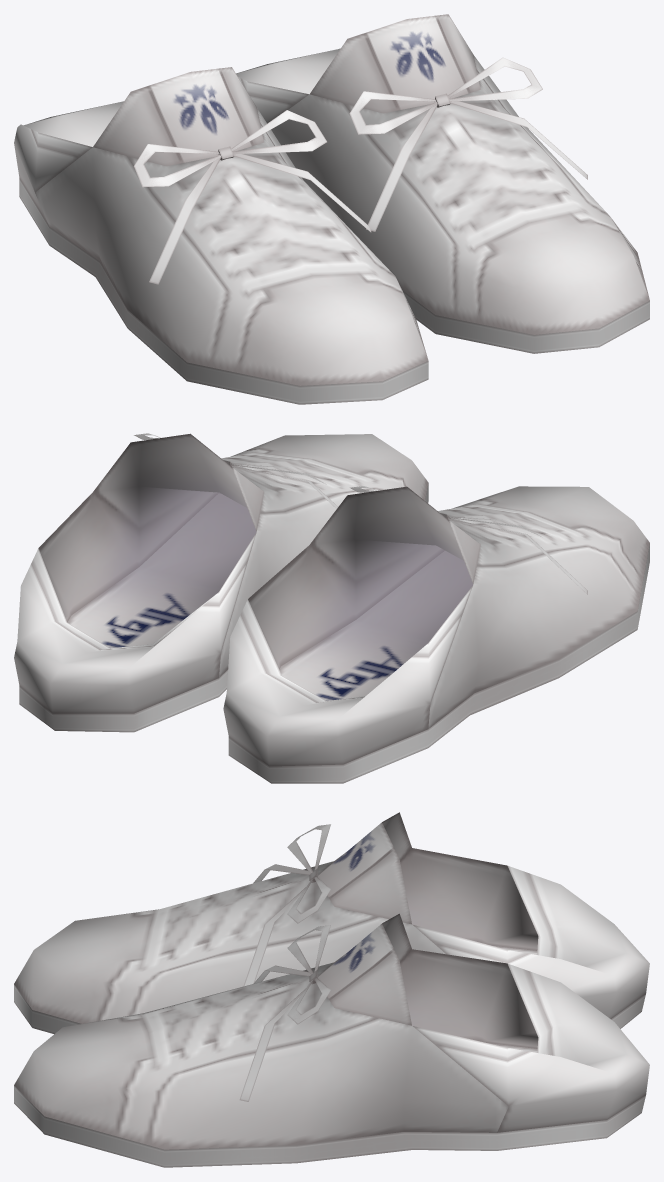
The model's file is set_sneakers_01_b.fbx.
3 renders of one model, top to bottom at view 1: azimuth 30°, elevation 25°; view 2: azimuth 150°, elevation 25°; view 3: azimuth 270°, elevation 25°, orthographic. The views are drawn at different scales.
Parts seen in each view (by area): view 1: sneakers_01_b_R, sneakers_01_b_L; view 2: sneakers_01_b_R, sneakers_01_b_L; view 3: sneakers_01_b_L, sneakers_01_b_R.
Part boxes in pixels (x1,y1,x2,y2): sneakers_01_b_R: (14, 67, 428, 404); sneakers_01_b_L: (236, 14, 649, 353); sneakers_01_b_R: (223, 486, 649, 783); sneakers_01_b_L: (14, 433, 428, 732); sneakers_01_b_L: (14, 913, 649, 1167); sneakers_01_b_R: (14, 812, 649, 1033).
Bounding box in the file's own units: 19.19 × 8.05 × 24.48.
